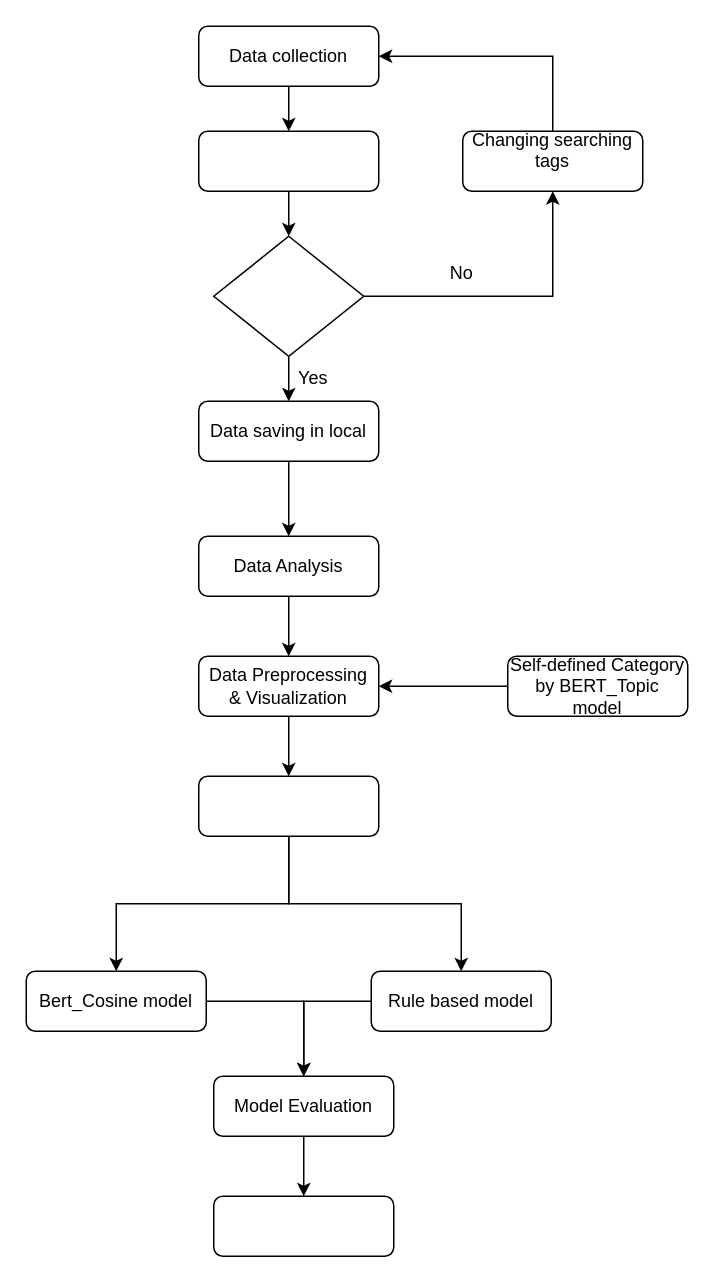
Image size: 714x1283. Some labels were removed from this diagram. Each missing label, with the centre of its shape:
"Data concatenation" goes at pixel 288 160.
"Data preprocessing technique combination" goes at pixel 288 805.
"Finalize the best combination" goes at pixel 303 1225.
"Volume checking" goes at pixel 288 295.
